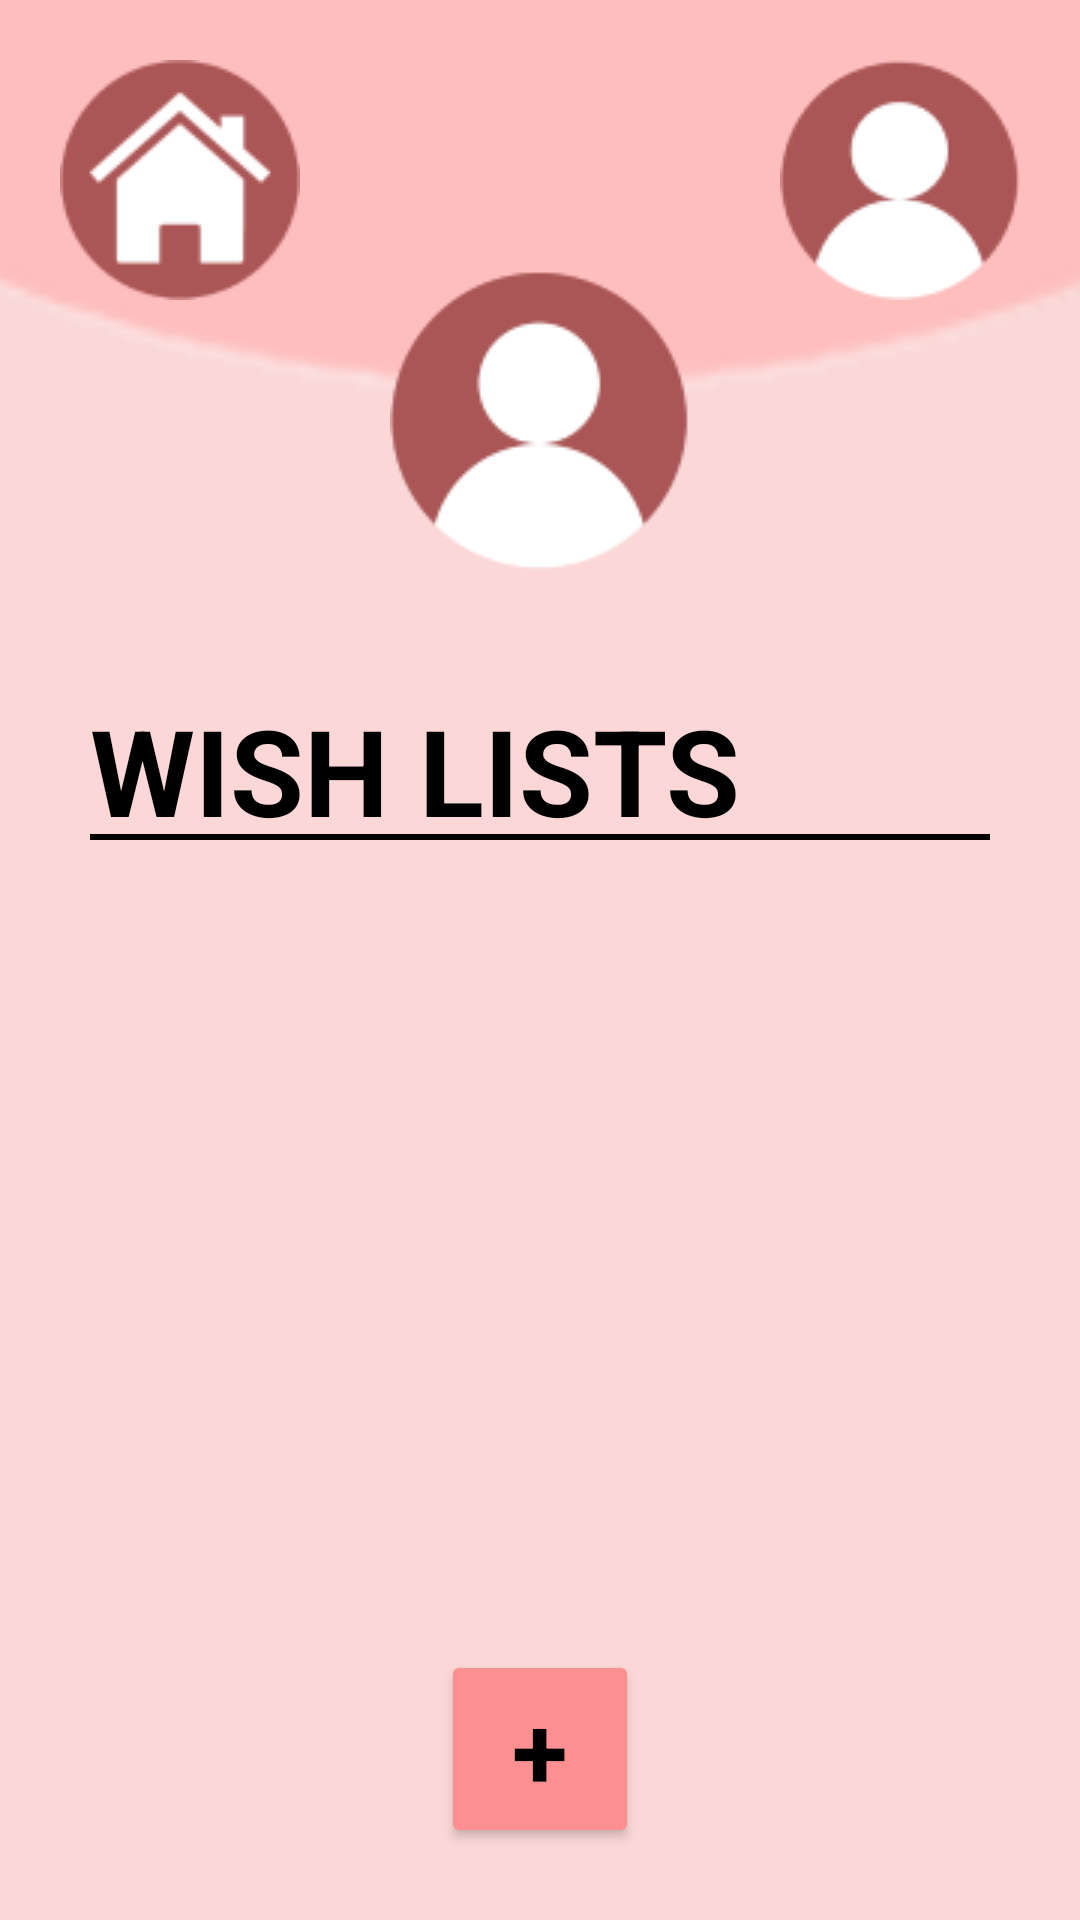

Icon bounding boxes for this 1080w x 1920h phone screenshot, format detection(x1, y1, x2, y2):
home: detection(60, 60, 300, 300)
